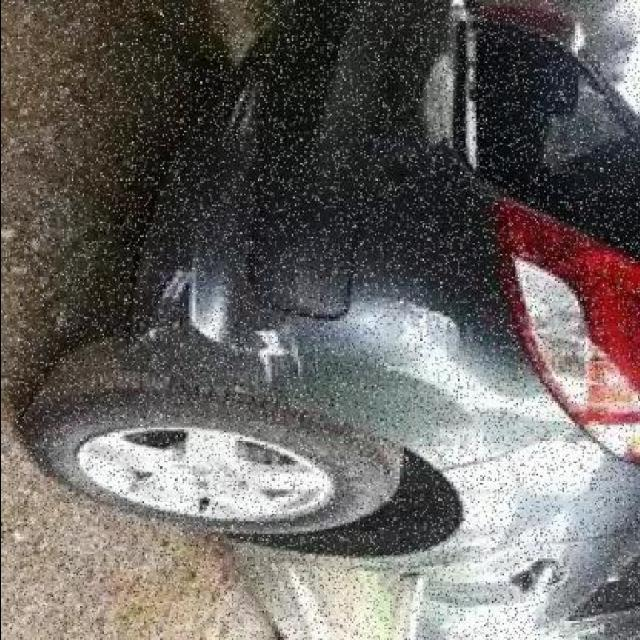rear-bumper-dent: (109, 0, 499, 455)
